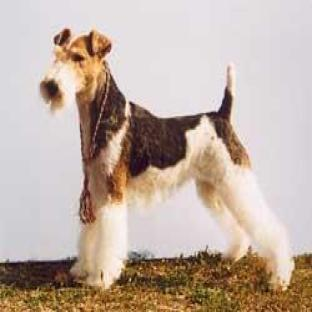Animal: (39, 28, 293, 288)
